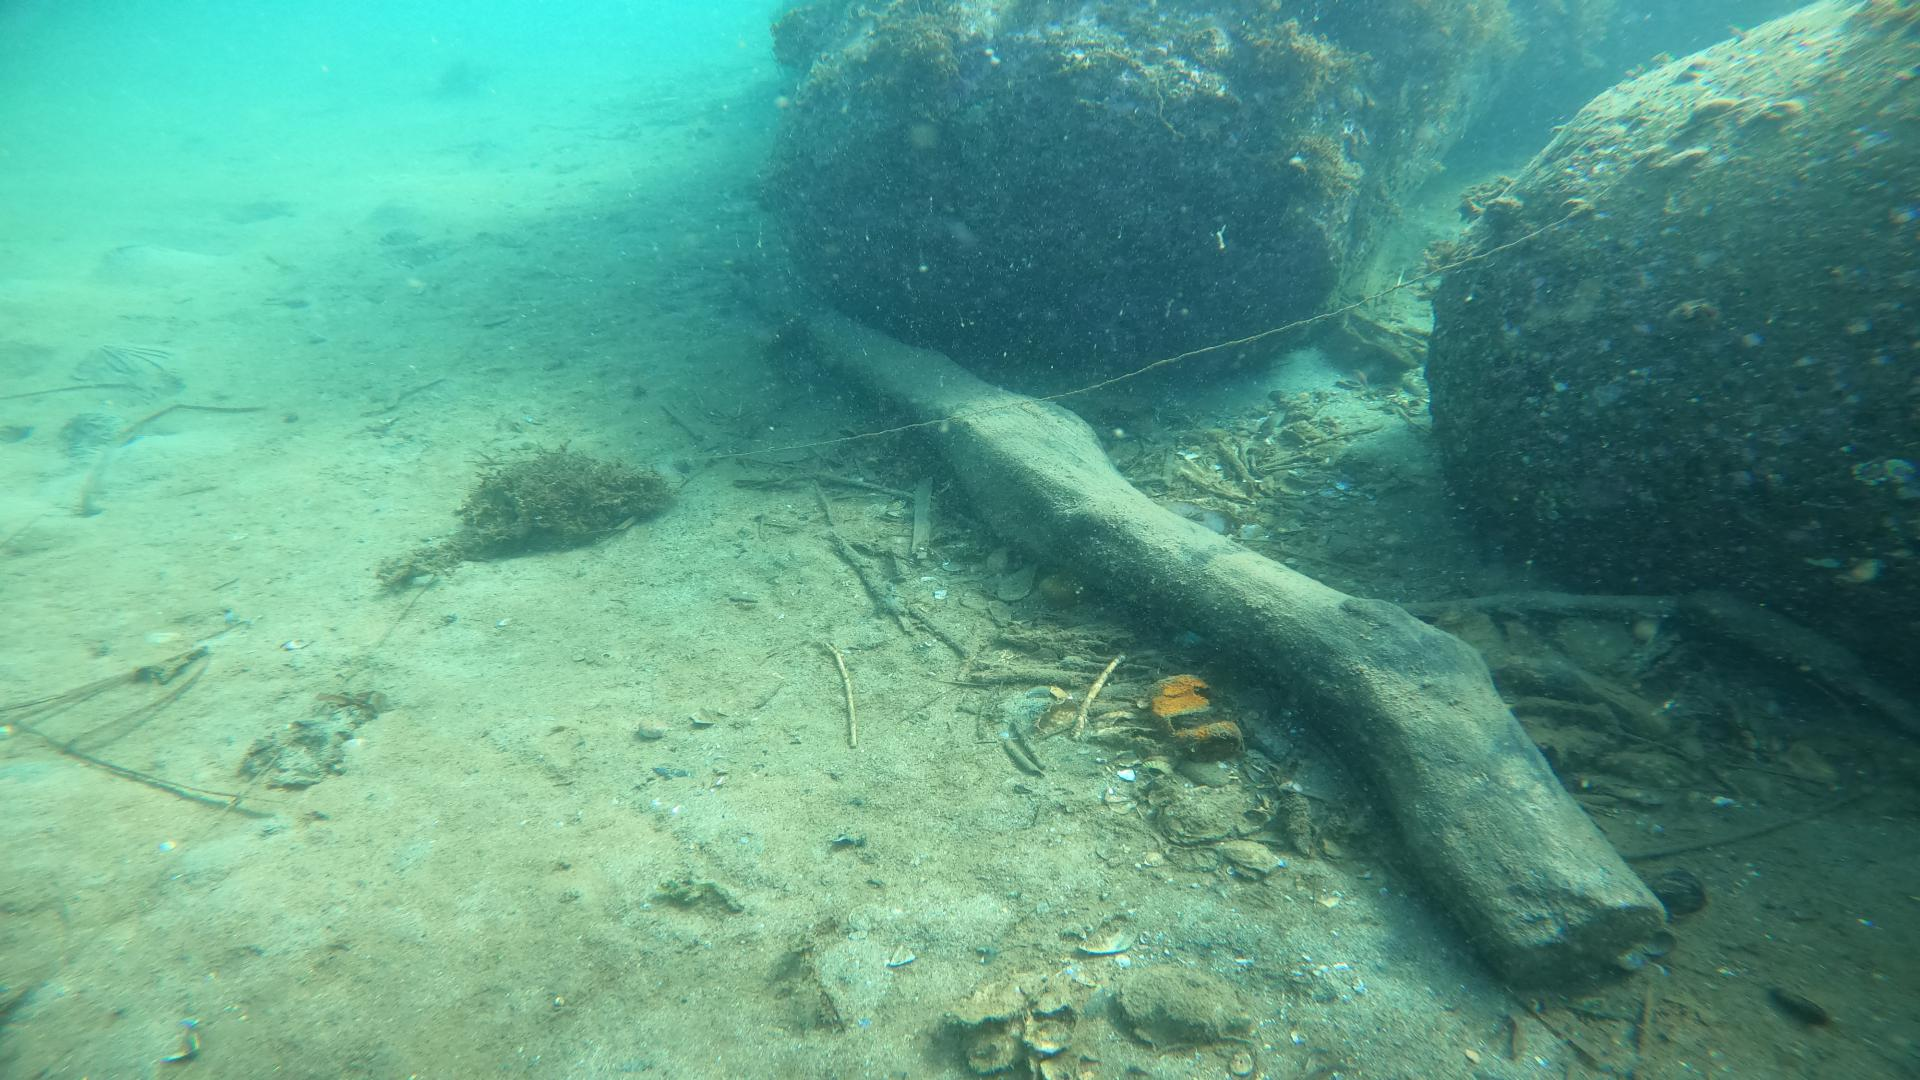wood: (800, 316, 1664, 985)
